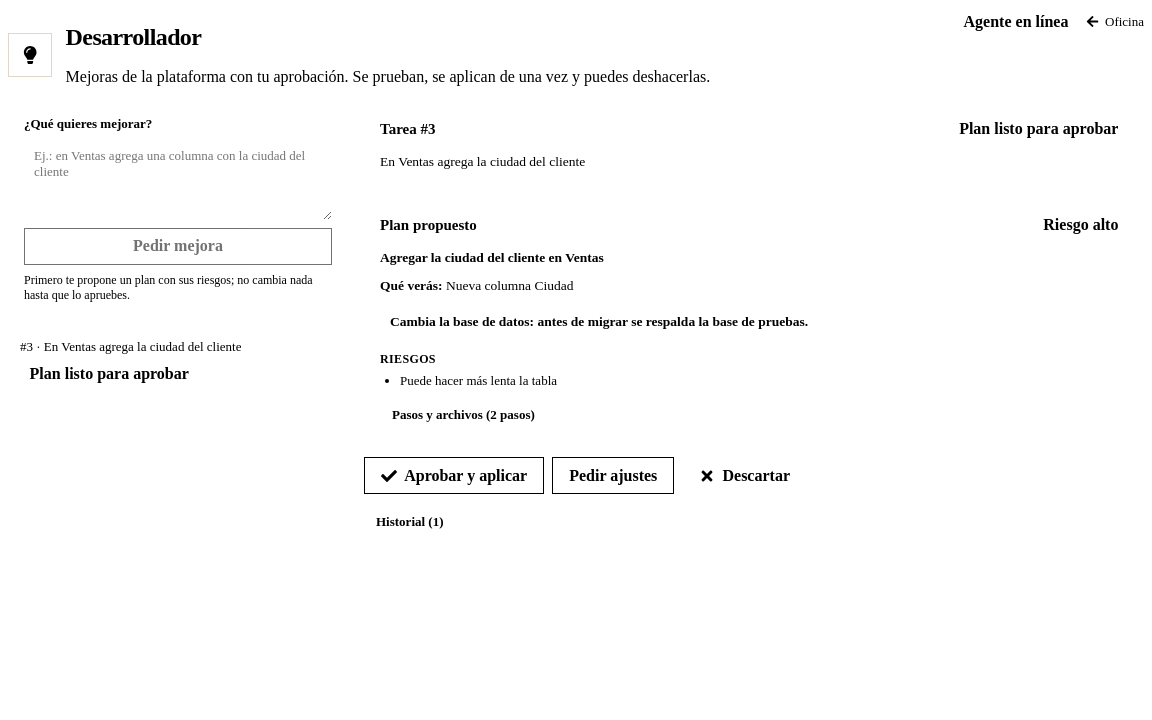
Test case: Desarrollador › muestra el plan con su riesgo y lo aprueba confirmando el riesgo alto
Expected: the text "Riesgo alto" is shown, [1043,216,1118,233]
Expected: the text "Cambia la base de datos" is shown, [390,314,808,329]
Click the button "Aprobar y aplicar" at [454, 476], box [364,457,544,494]
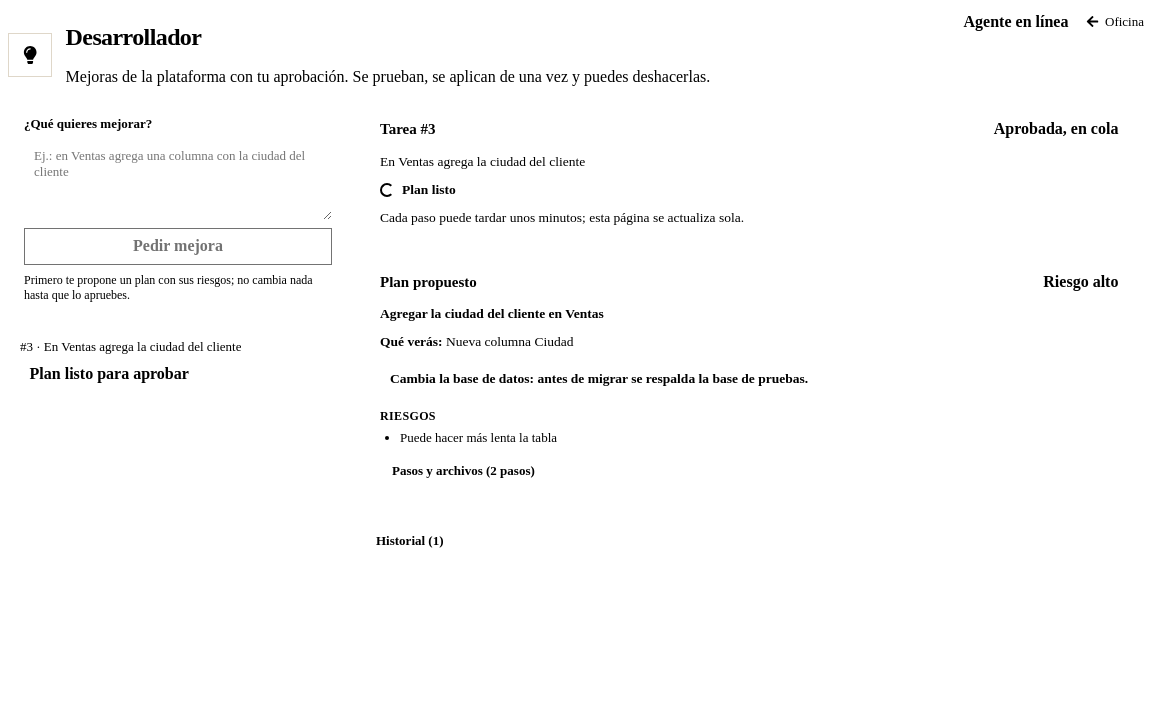
Expected: the text "Aprobada, en cola" is shown, [984,116,1128,144]
